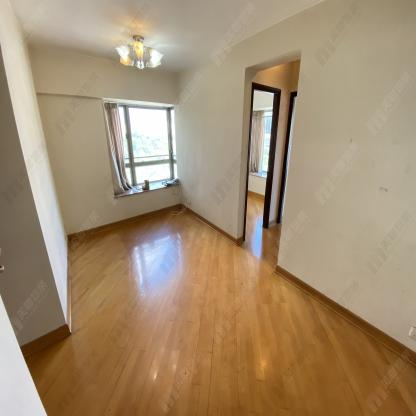Windowsill: (101, 98, 180, 200)
